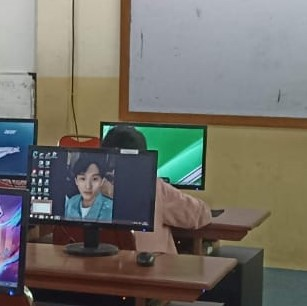monitor: (26, 145, 159, 233), (100, 121, 207, 192), (0, 187, 31, 298), (0, 118, 38, 180)
